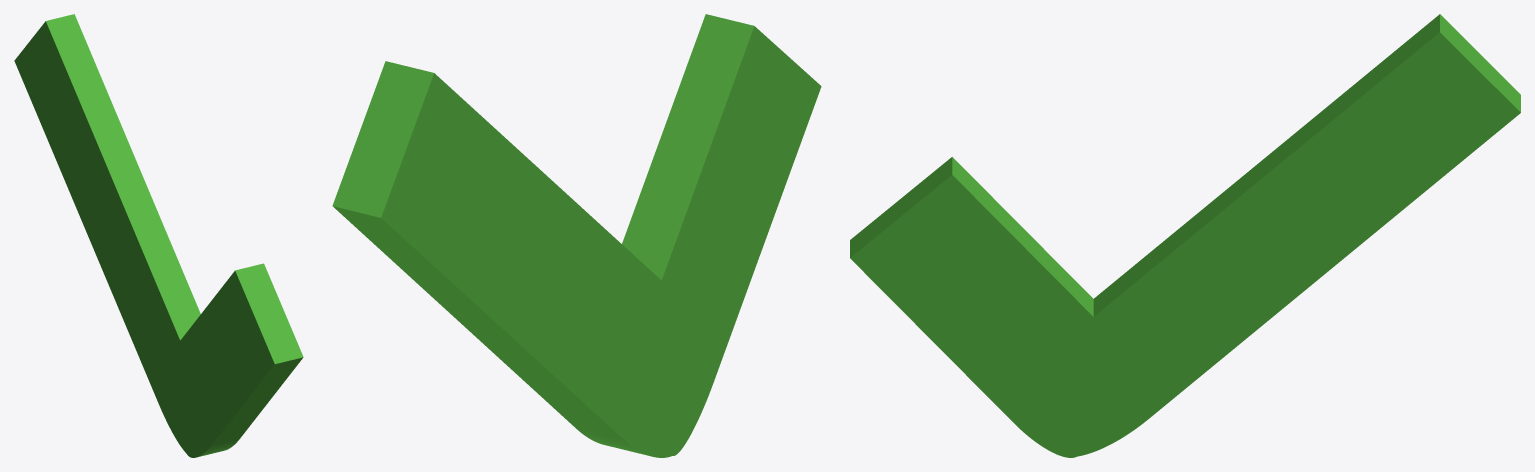
File: checkmark.glb
3 views of the same model, side by side, from view 1: azimuth 30°, elevation 25°; view 2: azimuth 150°, elevation 25°; view 3: azimuth 270°, elevation 25° (orthographic). The views are drawn at different scales.
Visible parts, largest first — view 1: Cube.001; view 2: Cube.001; view 3: Cube.001.
Part boxes in pixels (bbox=[...]): Cube.001: bbox=[14, 14, 303, 457]; Cube.001: bbox=[332, 14, 821, 457]; Cube.001: bbox=[850, 14, 1520, 457].
Bounding box in the file's own units: 0.04 × 0.4385 × 0.6261.
